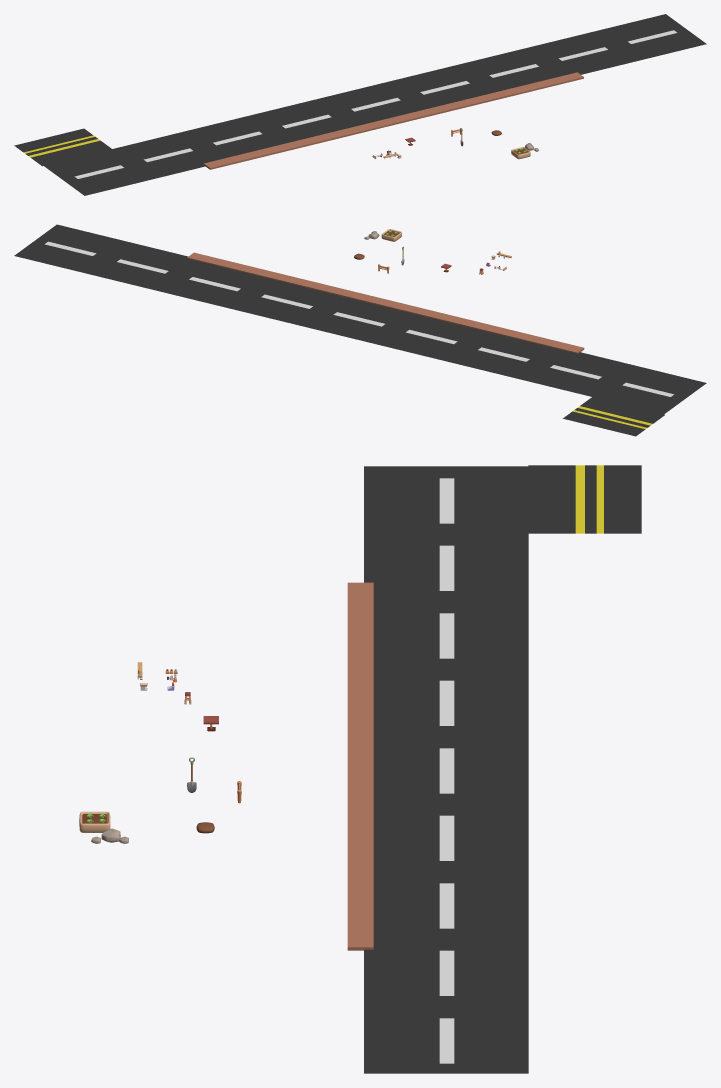
The model's file is assets003.fbx.
The picture shows the model from 3 angles, top to bottom: view 1: azimuth 30°, elevation 25°; view 2: azimuth 150°, elevation 25°; view 3: azimuth 270°, elevation 25°; orthographic projection. The views are drawn at different scales.
Visible parts, largest first — view 1: Plane.052, Cube.006, Plane.047; view 2: Plane.052, Cube.006, Plane.047; view 3: Plane.052, Cube.006, Plane.047.
Boxes of the visible parts, left/top/right/bottom form: Plane.052: left=44, top=14, right=706, bottom=195; Cube.006: left=203, top=72, right=583, bottom=169; Plane.047: left=14, top=128, right=111, bottom=166; Plane.052: left=14, top=224, right=706, bottom=414; Cube.006: left=187, top=252, right=584, bottom=353; Plane.047: left=563, top=397, right=664, bottom=436; Plane.052: left=364, top=466, right=528, bottom=1073; Cube.006: left=347, top=582, right=373, bottom=950; Plane.047: left=528, top=465, right=641, bottom=533.
Size of the model in its own units: 15125 by 558 by 5904.
42 materials, 2 textured.
